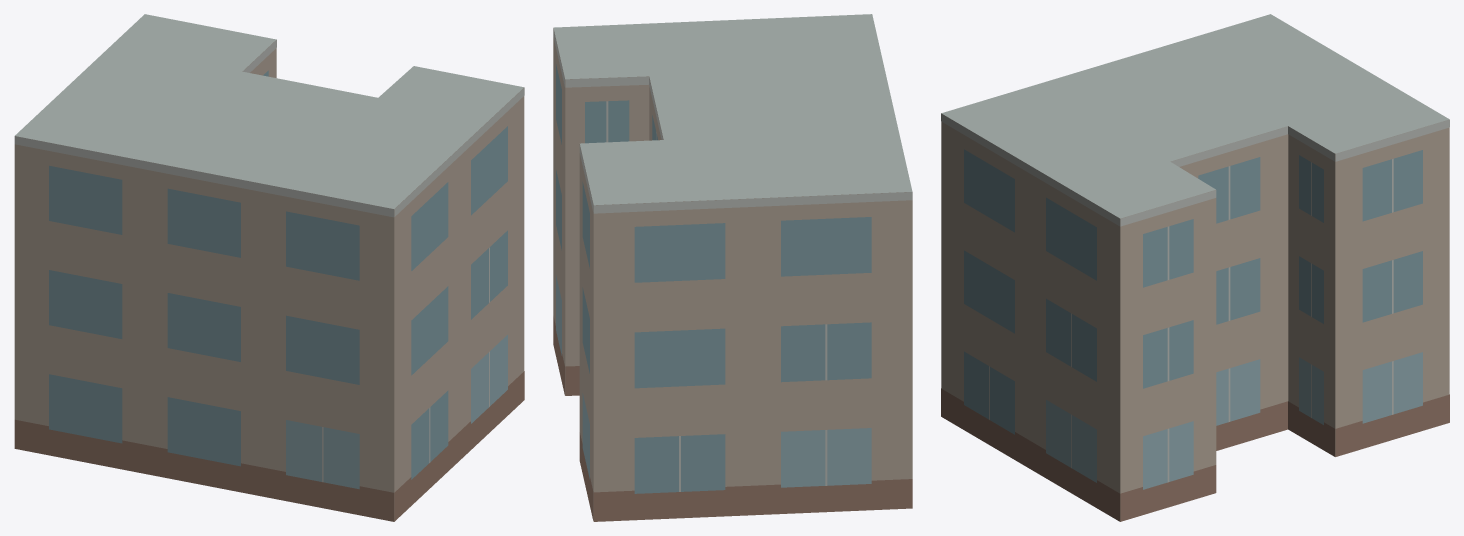
File: survey-upis-32936042.glb
The picture shows the model from 3 angles, left to right: view 1: azimuth 30°, elevation 25°; view 2: azimuth 150°, elevation 25°; view 3: azimuth 270°, elevation 25°; orthographic projection. The views are drawn at different scales.
Parts seen in each view (by area): view 1: survey-upis-32936042.tmp; view 2: survey-upis-32936042.tmp; view 3: survey-upis-32936042.tmp.
Part boxes in pixels (left/top/right/bottom): survey-upis-32936042.tmp: left=14, top=14, right=524, bottom=521; survey-upis-32936042.tmp: left=553, top=14, right=912, bottom=521; survey-upis-32936042.tmp: left=941, top=14, right=1449, bottom=521.
Size of the model in its own units: 13.24 by 9.15 by 13.92.
